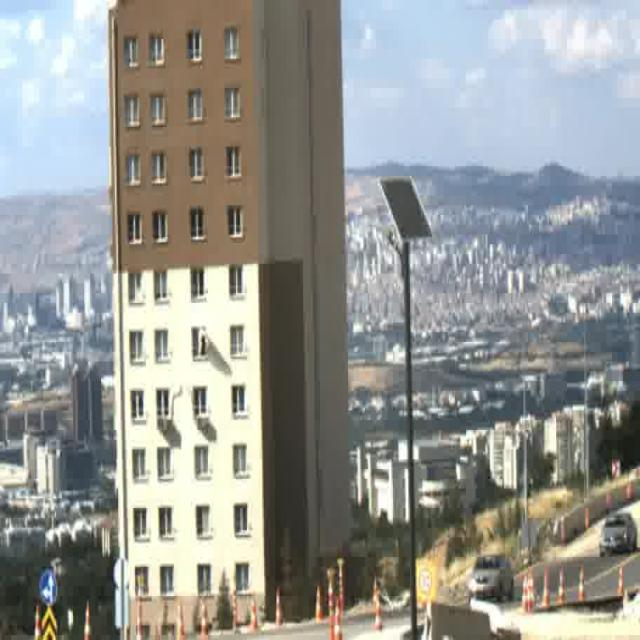Car: (468, 550, 514, 604), (599, 512, 637, 556)
